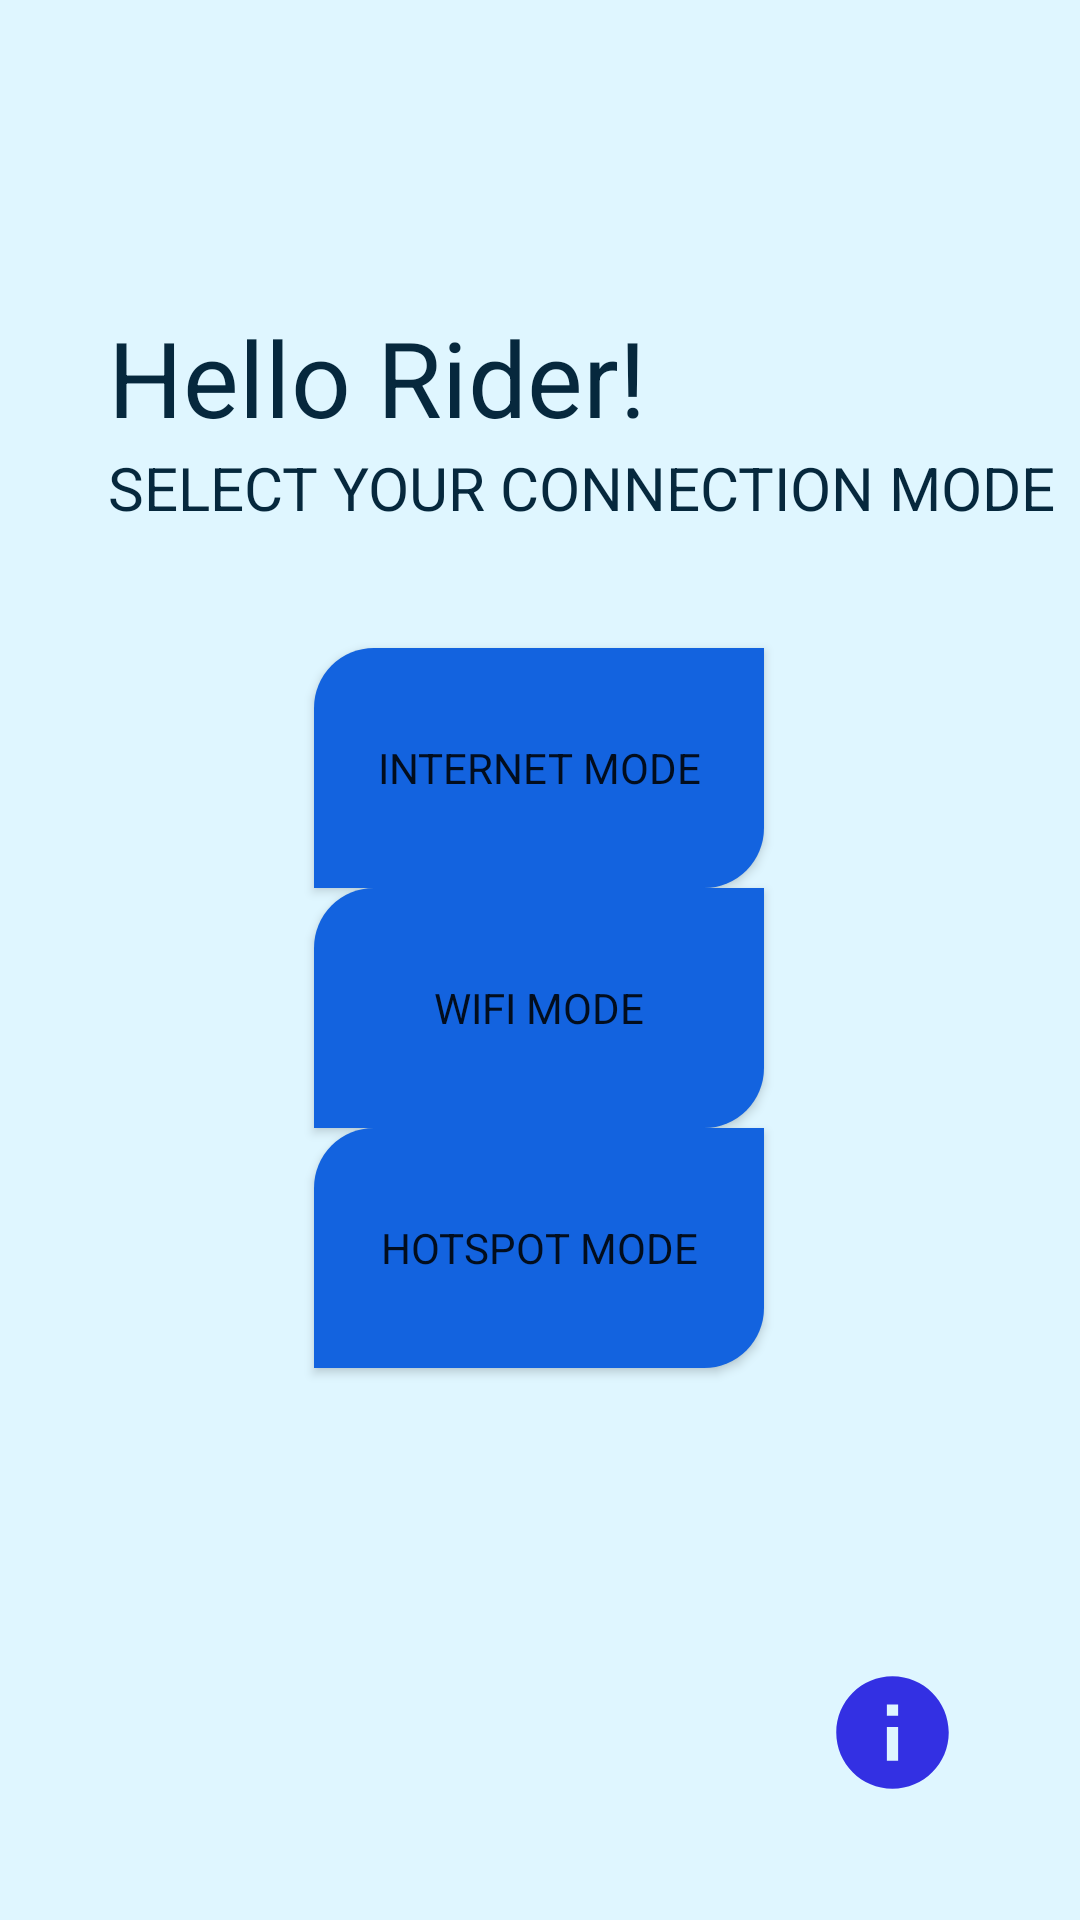

Where icons sit on this 1080px x 1920px app screen, as (x1, y1, x2, y2):
info: (836, 1676, 949, 1789)
